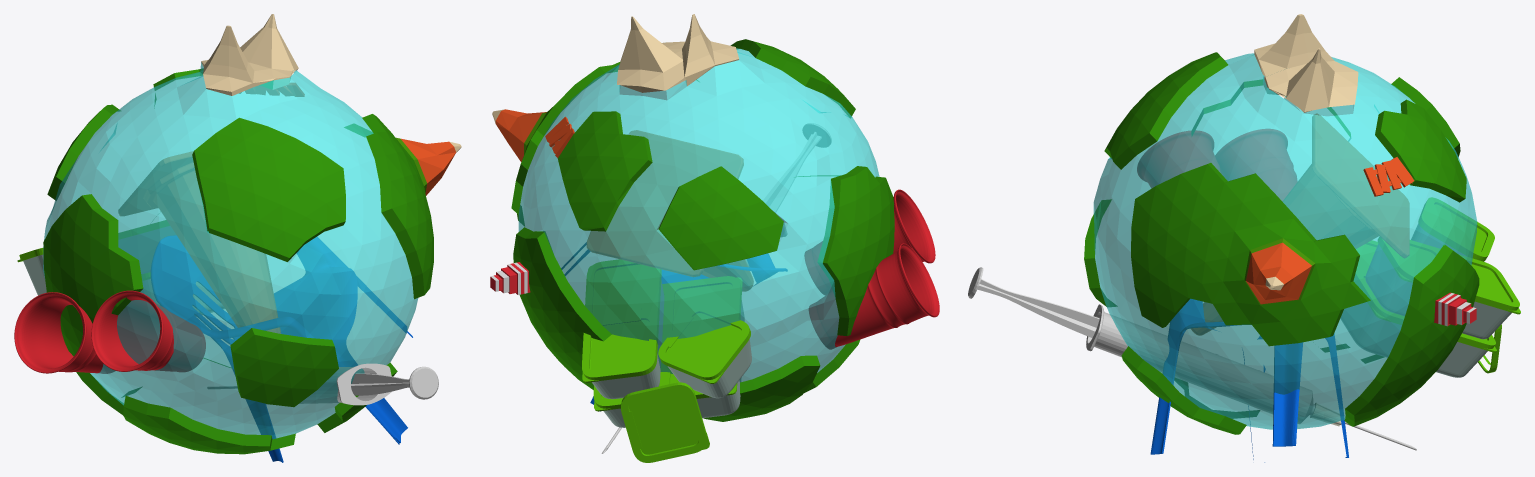
Rendered from world_06.glb.
3 views of the same model, side by side, from view 1: azimuth 30°, elevation 25°; view 2: azimuth 150°, elevation 25°; view 3: azimuth 270°, elevation 25° (orthographic). The views are drawn at different scales.
Visible parts, largest first — view 1: World, 03_Chair, 06_Cups, 04_Cone, 01_Syringe, 05_Boxturm; view 2: World, 05_Boxturm, 04_Cone, 06_Cups, 01_Syringe, 03_Chair; view 3: World, 05_Boxturm, 04_Cone, 01_Syringe, 06_Cups, 03_Chair.
Part boxes in pixels (x1=…): World: x1=43, y1=14, x2=461, y2=454; 03_Chair: x1=151, y1=235, x2=412, y2=462; 06_Cups: x1=14, y1=290, x2=205, y2=373; 04_Cone: x1=118, y1=151, x2=280, y2=333; 01_Syringe: x1=207, y1=363, x2=438, y2=405; 05_Boxturm: x1=17, y1=220, x2=224, y2=314; World: x1=490, y1=14, x2=894, y2=421; 05_Boxturm: x1=582, y1=259, x2=751, y2=462; 04_Cone: x1=587, y1=130, x2=753, y2=291; 06_Cups: x1=804, y1=189, x2=939, y2=349; 01_Syringe: x1=601, y1=123, x2=831, y2=453; 03_Chair: x1=561, y1=242, x2=787, y2=411; World: x1=1084, y1=14, x2=1479, y2=434; 05_Boxturm: x1=1340, y1=197, x2=1520, y2=377; 04_Cone: x1=1191, y1=113, x2=1409, y2=335; 01_Syringe: x1=968, y1=267, x2=1416, y2=450; 06_Cups: x1=1137, y1=129, x2=1297, y2=200; 03_Chair: x1=1150, y1=299, x2=1348, y2=462.
Size of what is drawn, in the model's own units: 2.73 by 2.53 by 2.91.
